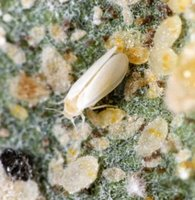whitefly: (44, 47, 129, 132)
